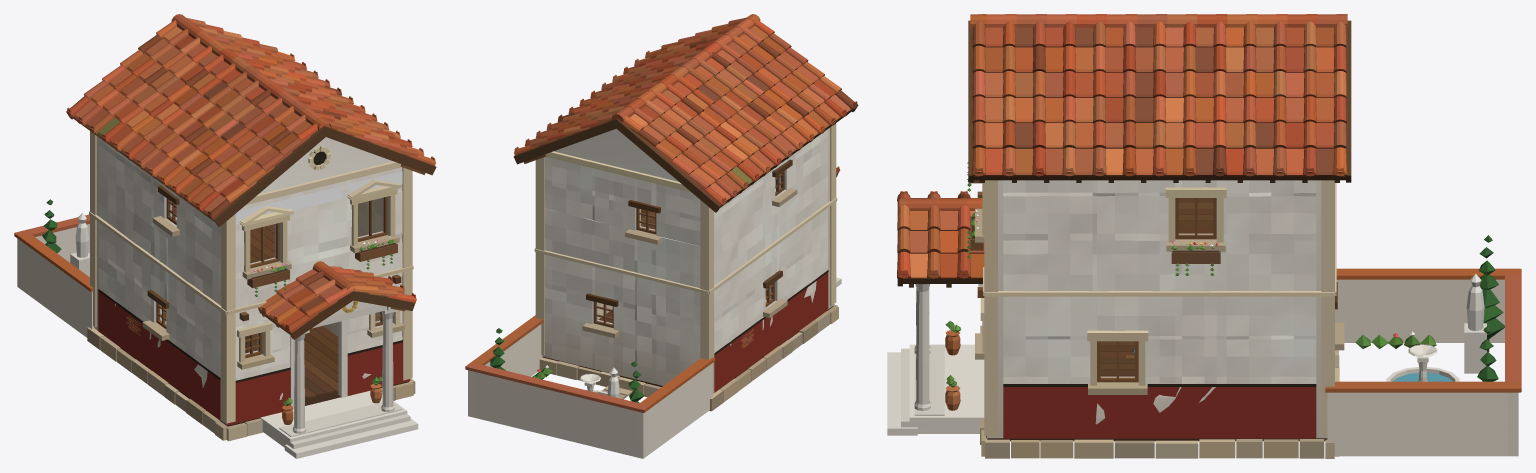
File: patrician_4_2.glb
3 views of the same model, side by side, from view 1: azimuth 30°, elevation 25°; view 2: azimuth 150°, elevation 25°; view 3: azimuth 270°, elevation 25° (orthographic). The views are drawn at different scales.
Visible parts, largest first — view 1: House, Walls, Rooms, Frieze; view 2: House, Walls; view 3: House, Walls, Rooms.
Boxes of the visible parts, <box> form: House: <box>14,14,436,458</box>; Walls: <box>94,136,402,424</box>; Rooms: <box>165,198,382,399</box>; Frieze: <box>235,171,402,224</box>; House: <box>465,14,858,458</box>; Walls: <box>542,128,833,393</box>; House: <box>887,14,1521,458</box>; Walls: <box>986,180,1327,438</box>; Rooms: <box>1100,198,1213,376</box>.
Size of the model in its own units: 4.44 by 5.63 by 8.43.
Materials: 4 (4 with a texture image).
